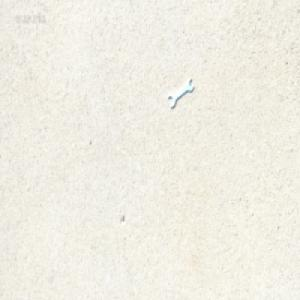Wrench: (168, 78, 193, 108)
